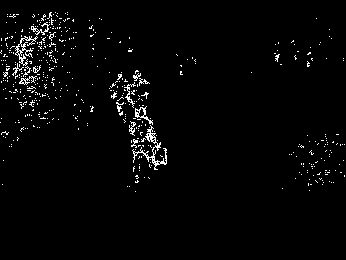person: (128, 109, 168, 187), (126, 66, 151, 122), (109, 71, 129, 127)
